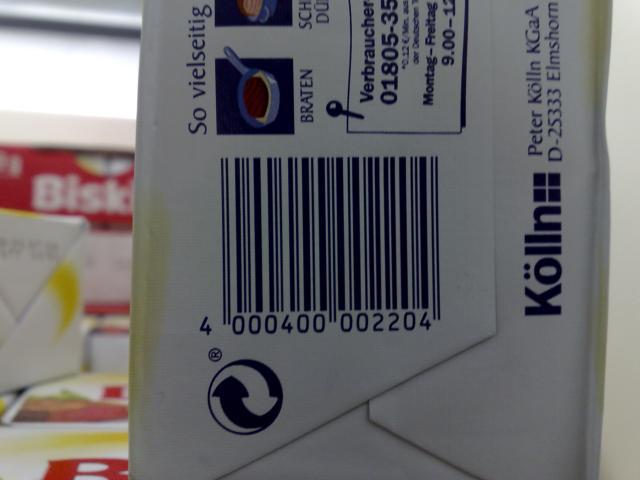Barkod: (219, 153, 440, 312)
